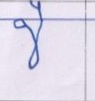ai_matra: (29, 1, 46, 18)
